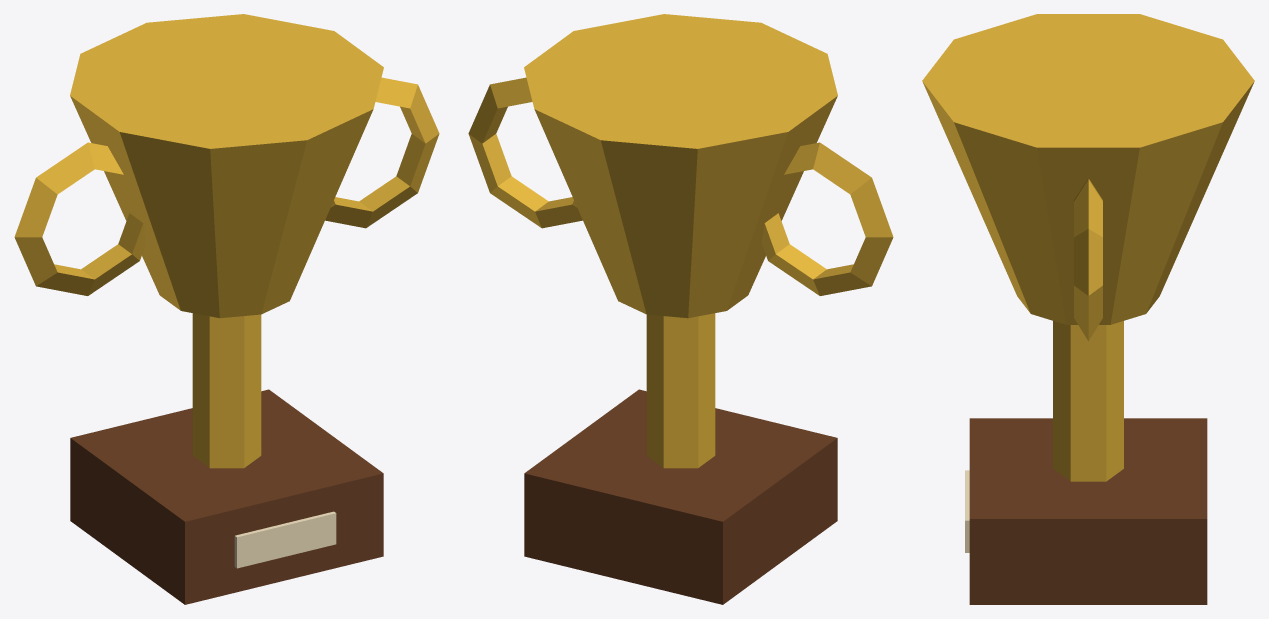
Rendered from trophy.fbx.
3 renders of one model, left to right at view 1: azimuth 30°, elevation 25°; view 2: azimuth 150°, elevation 25°; view 3: azimuth 270°, elevation 25°, orthographic. The views are drawn at different scales.
Parts seen in each view (by area): view 1: trophy; view 2: trophy; view 3: trophy.
Boxes of the visible parts, x1=… form: trophy: x1=14, y1=14, x2=439, y2=604; trophy: x1=468, y1=14, x2=893, y2=604; trophy: x1=922, y1=14, x2=1254, y2=604.
Bounding box in the file's own units: 0.856 × 0.88 × 0.56.
